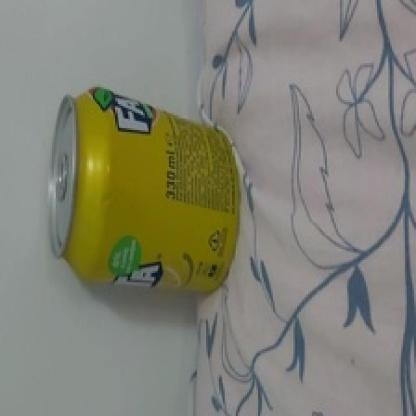Can: (37, 84, 253, 299)
